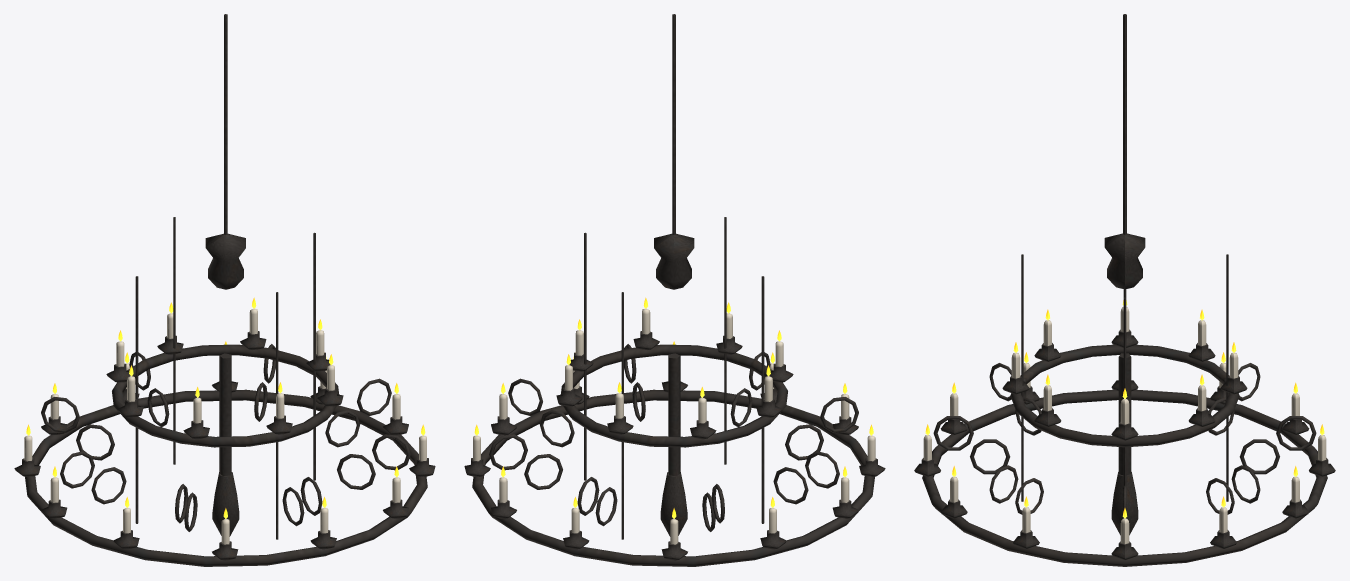
File: iron_chandelier_lod1.glb
3 renders of one model, left to right at view 1: azimuth 30°, elevation 25°; view 2: azimuth 150°, elevation 25°; view 3: azimuth 270°, elevation 25°, orthographic.
Parts seen in each view (by area): view 1: iron_chandelier; view 2: iron_chandelier; view 3: iron_chandelier.
Boxes of the visible parts, left/top/right/bottom form: iron_chandelier: left=14, top=14, right=435, bottom=566; iron_chandelier: left=464, top=14, right=885, bottom=566; iron_chandelier: left=914, top=14, right=1335, bottom=566.
Bounding box in the file's own units: 1.62 × 2.25 × 1.62.
Materials: 1 (1 with a texture image).
